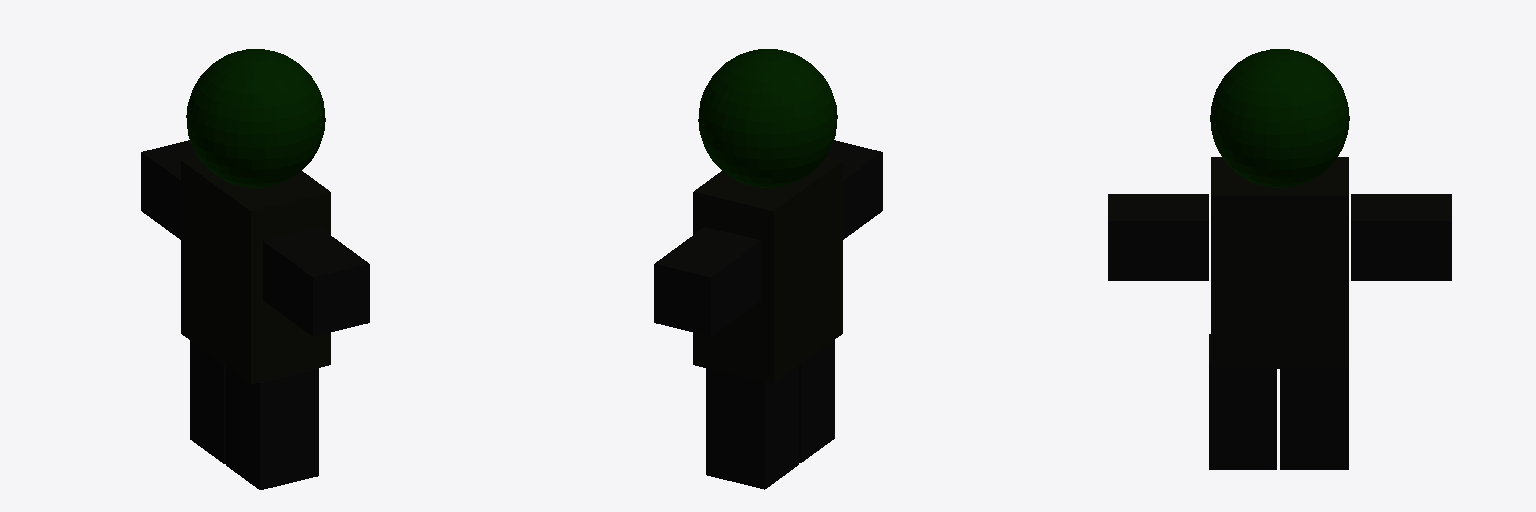
File: zombie.obj
3 renders of one model, left to right at view 1: azimuth 30°, elevation 25°; view 2: azimuth 150°, elevation 25°; view 3: azimuth 270°, elevation 25°, orthographic.
Visible parts, largest first — view 1: Cube_Cube.001, Sphere, Cube.003_Cube.004, Cube.002_Cube.003, Cube.004_Cube.005, Cube.001_Cube.002; view 2: Cube_Cube.001, Sphere, Cube.004_Cube.005, Cube.001_Cube.002, Cube.003_Cube.004, Cube.002_Cube.003; view 3: Cube_Cube.001, Sphere, Cube.002_Cube.003, Cube.001_Cube.002, Cube.004_Cube.005, Cube.003_Cube.004.
Part boxes in pixels (left/top/right/bottom): Cube_Cube.001: left=181, top=157, right=330, bottom=384; Sphere: left=186, top=49, right=325, bottom=187; Cube.003_Cube.004: left=226, top=367, right=318, bottom=489; Cube.002_Cube.003: left=263, top=227, right=369, bottom=336; Cube.004_Cube.005: left=190, top=341, right=225, bottom=463; Cube.001_Cube.002: left=141, top=140, right=197, bottom=239; Cube_Cube.001: left=693, top=157, right=842, bottom=384; Sphere: left=698, top=49, right=837, bottom=187; Cube.004_Cube.005: left=706, top=366, right=798, bottom=489; Cube.001_Cube.002: left=654, top=227, right=760, bottom=336; Cube.003_Cube.004: left=799, top=340, right=834, bottom=462; Cube.002_Cube.003: left=826, top=140, right=882, bottom=239; Cube_Cube.001: left=1211, top=157, right=1348, bottom=368; Sphere: left=1210, top=49, right=1349, bottom=187; Cube.002_Cube.003: left=1108, top=194, right=1208, bottom=280; Cube.001_Cube.002: left=1351, top=194, right=1451, bottom=280; Cube.004_Cube.005: left=1280, top=369, right=1348, bottom=469; Cube.003_Cube.004: left=1209, top=334, right=1276, bottom=469.
Bounding box in the file's own units: 2 × 6.35 × 4.91.